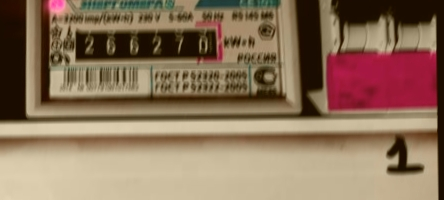0: (199, 36, 212, 53)
2: (84, 36, 98, 54), (153, 36, 165, 54)
6: (107, 36, 120, 55), (130, 37, 143, 55)
7: (176, 36, 188, 54)
screen: (67, 19, 231, 70)
